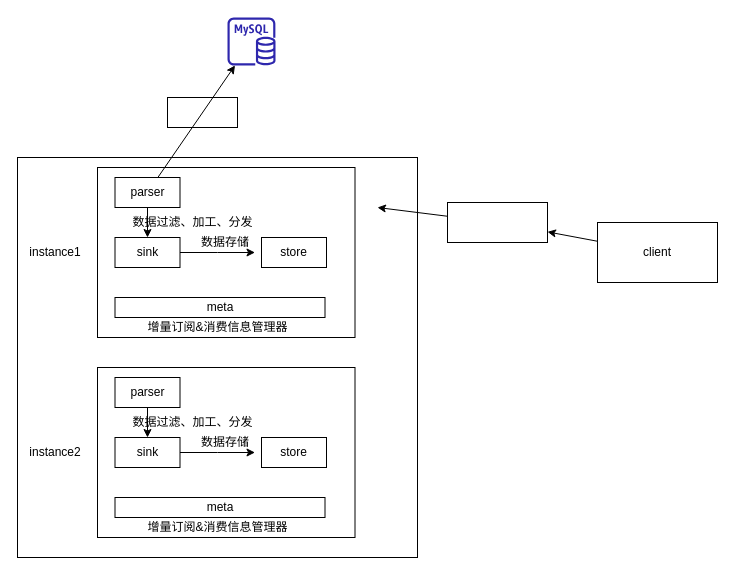
This 735x575 diagram has some shape labels left out. The shapes that lost their labels are listed below. From the top down, each one's centre as x and y in pixels, then its label:
the point at 202,112: driver
the point at 497,222: protocol
